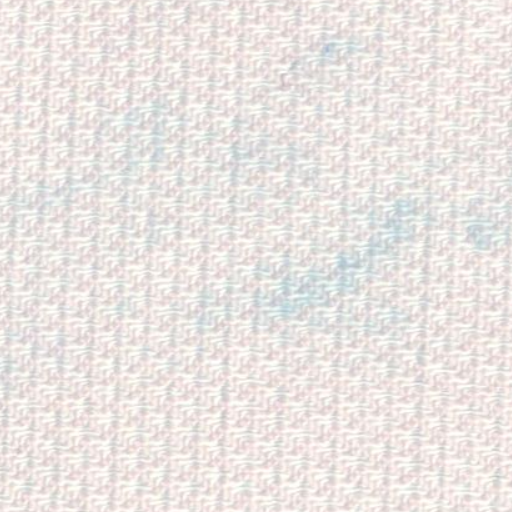WuZi: (17, 30, 496, 356)
